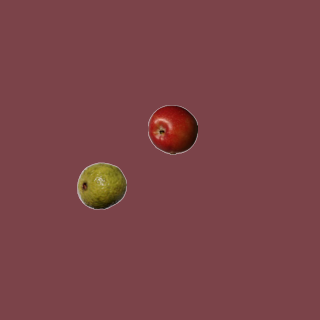Apple Braeburn: (147, 104, 197, 154)
Guava: (76, 160, 126, 210)
